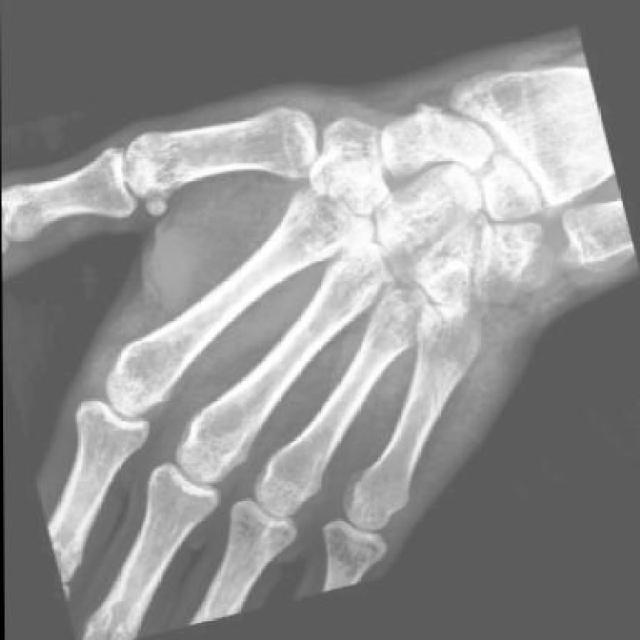Fracture: (402, 103, 452, 171)
